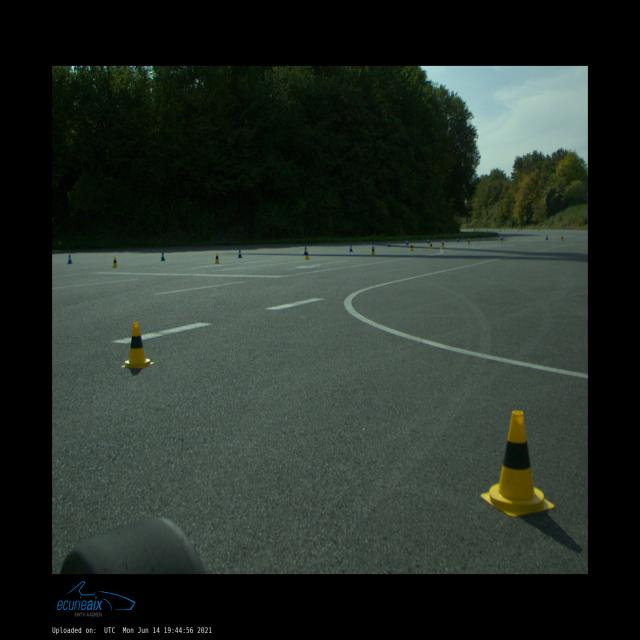blue_cone: (238, 249, 242, 258), (68, 255, 72, 264), (161, 252, 165, 260), (303, 247, 307, 254), (350, 244, 353, 252), (456, 237, 459, 242), (406, 240, 409, 245), (372, 242, 374, 249), (545, 235, 548, 239), (427, 239, 430, 243), (388, 241, 390, 247)
yellow_cone: (481, 411, 555, 517), (121, 322, 155, 368), (112, 257, 119, 268), (304, 250, 310, 260), (214, 254, 220, 264), (429, 241, 433, 249), (410, 244, 414, 252), (371, 247, 375, 255), (560, 235, 564, 241), (467, 239, 471, 245), (500, 236, 502, 242), (442, 241, 444, 247)
